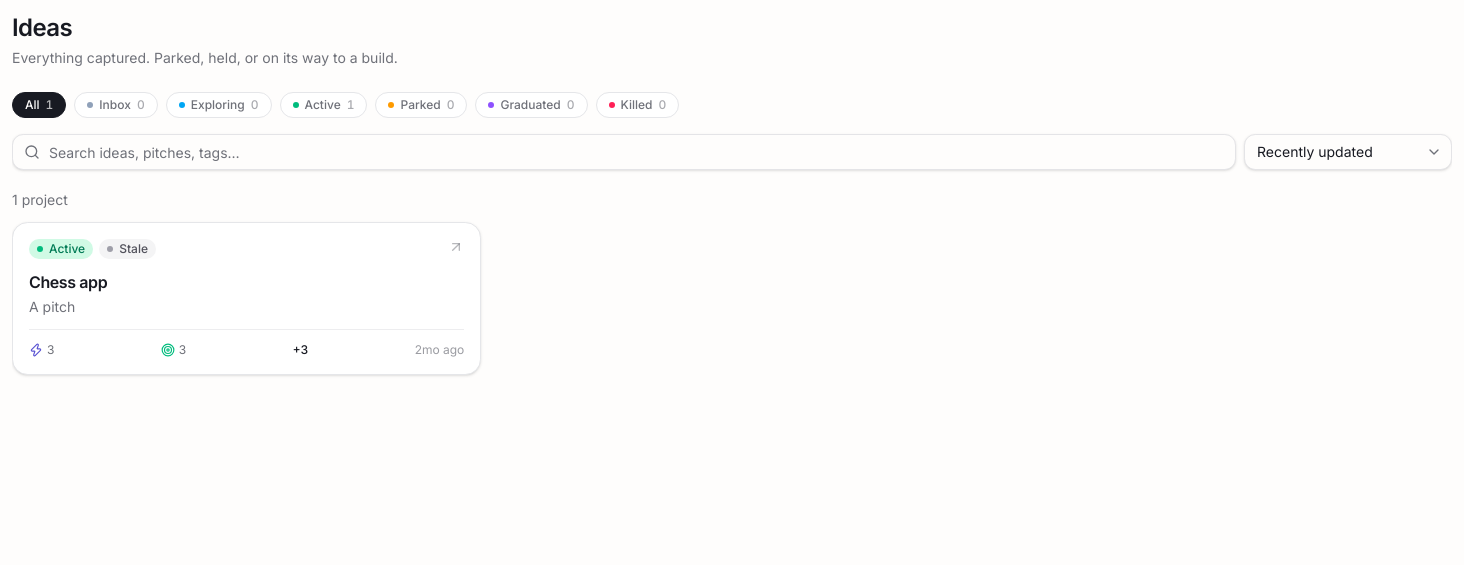
it: DashboardPage states › shows a no-matches state with clear filters when a search matches nothing
This screenshot has width=1464, height=565.
Expected: the heading "Chess app" is shown, [29,272,107,292]
Type "nonexistent-query" into the field with placeholder "Search ideas, pitches, tags…" at (624, 152), box [12,134,1236,170]
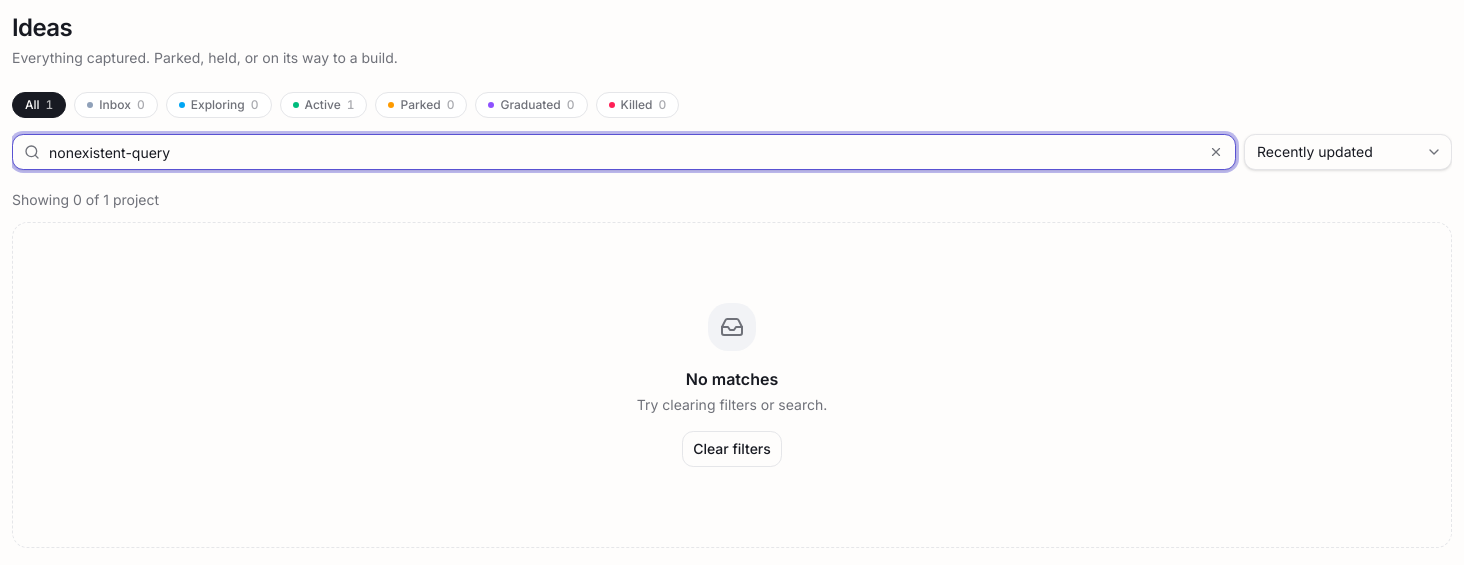
Expected: the heading "No matches" is shown, [686,369,778,389]
Click the button "Clear filters" at (732, 449), box [682,431,782,467]
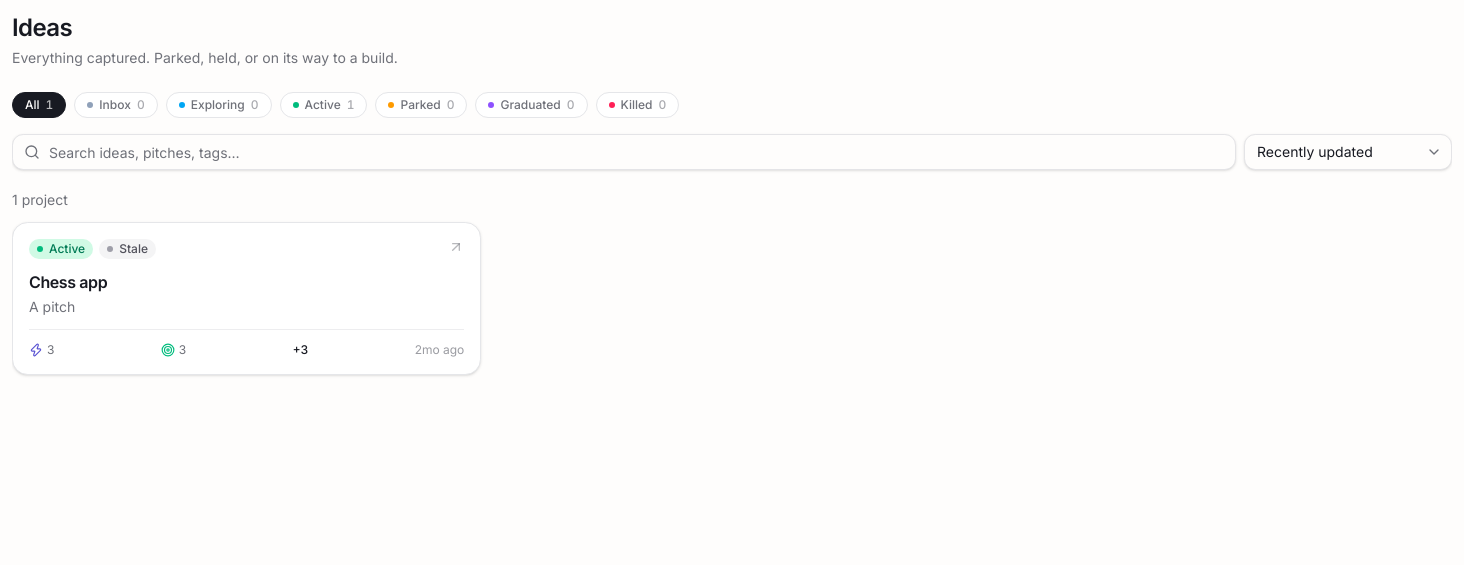
Expected: the heading "Chess app" is shown, [29,272,107,292]
